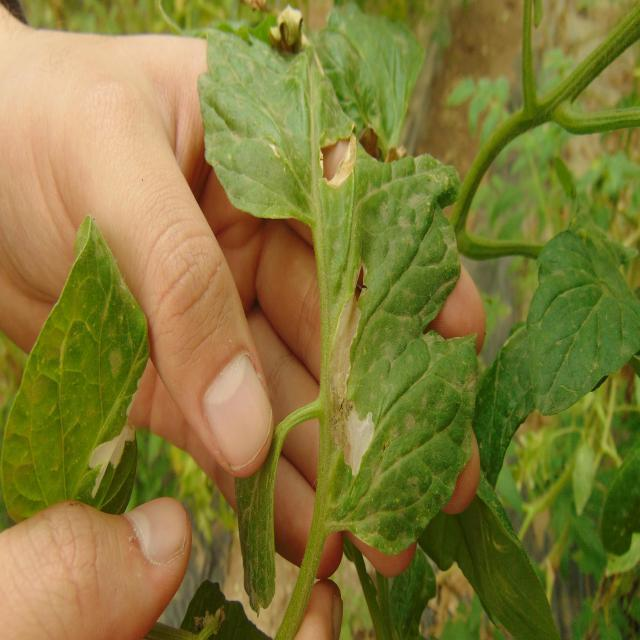Tuta absoluta: (316, 289, 381, 479), (71, 415, 143, 498), (327, 134, 367, 192)
